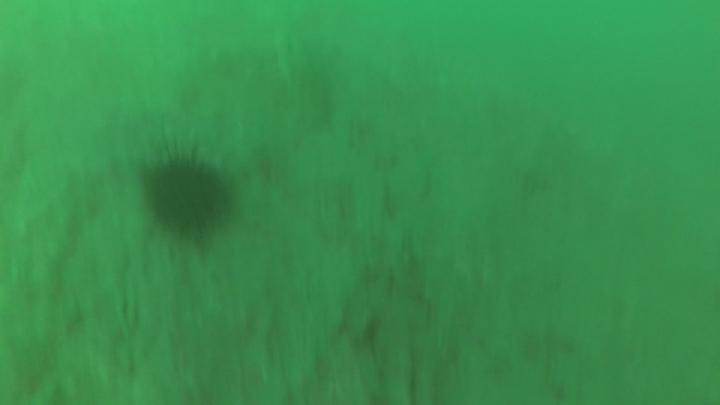echinus: (146, 163, 228, 239)
